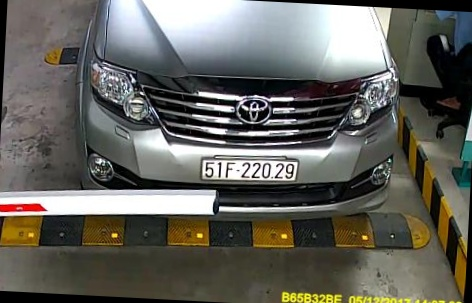plate: (195, 151, 301, 189)
